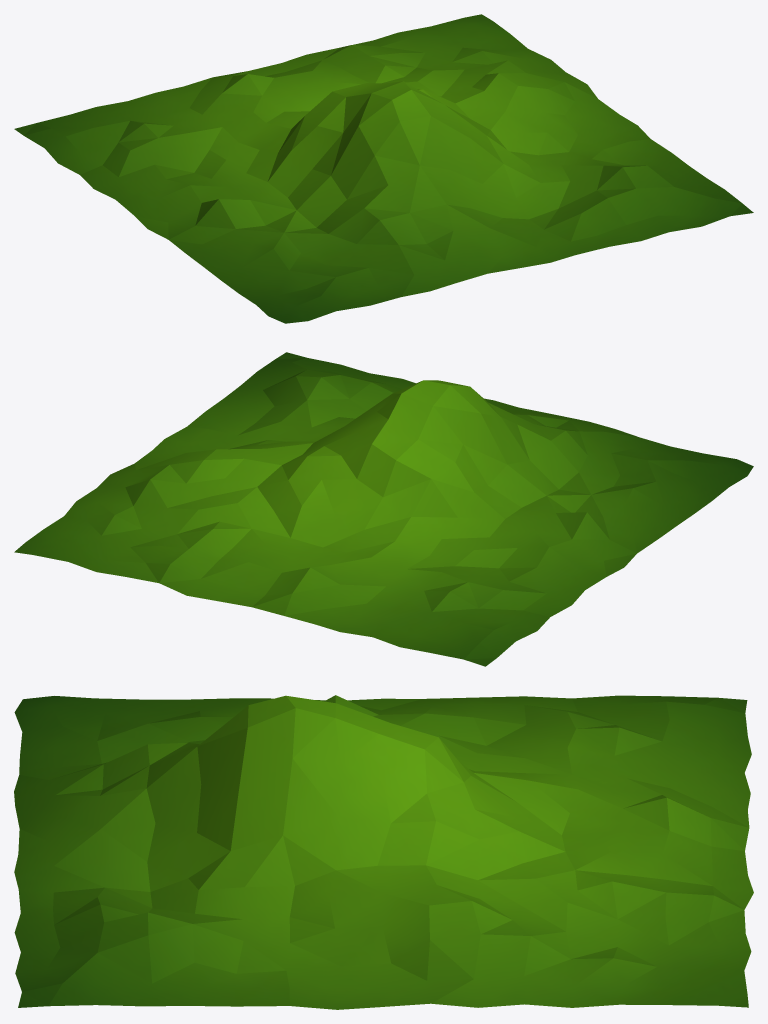
File: hill_008.fbx
3 renders of one model, top to bottom at view 1: azimuth 30°, elevation 25°; view 2: azimuth 150°, elevation 25°; view 3: azimuth 270°, elevation 25°, orthographic. The views are drawn at different scales.
Visible parts, largest first — view 1: hill.008; view 2: hill.008; view 3: hill.008.
Part boxes in pixels (x1,y1,x2,y2): hill.008: (14,14,753,323); hill.008: (14,352,753,666); hill.008: (14,695,753,1009).
Size of the model in its own units: 5065 by 1077 by 5054.
